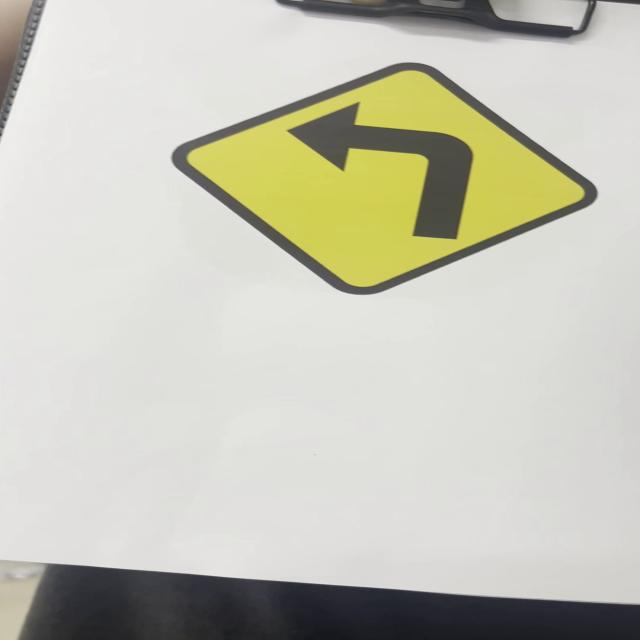left: (176, 59, 596, 298)
